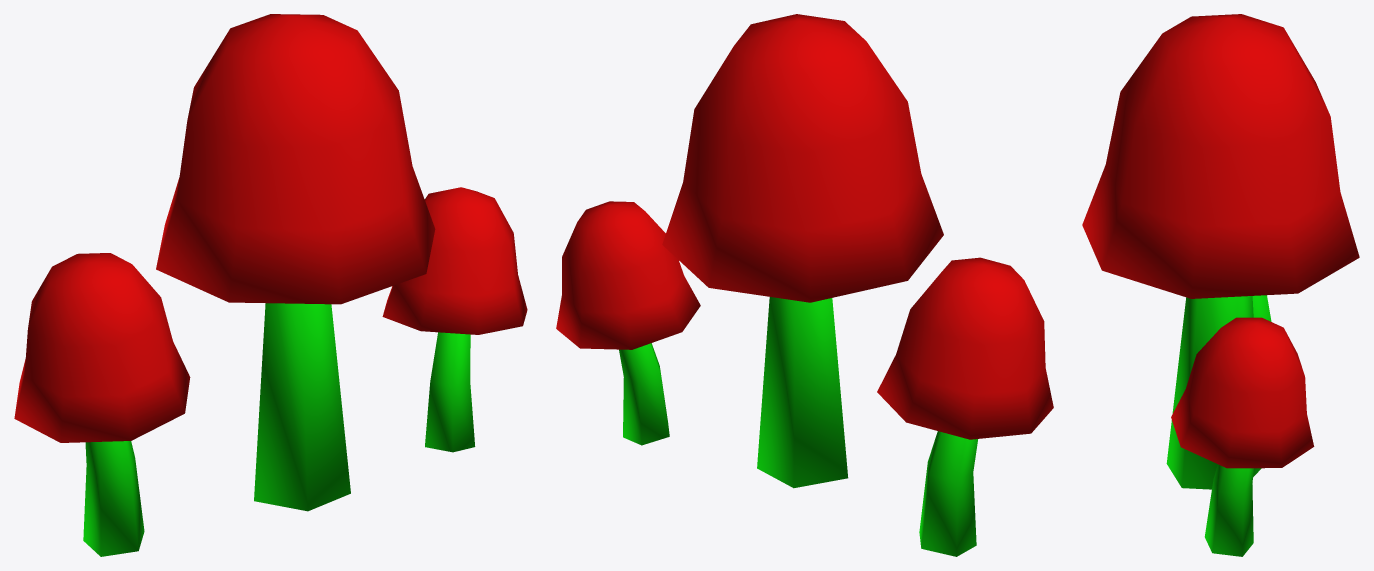
The model's file is Mushroom_Bell.fbx.
3 views of the same model, side by side, from view 1: azimuth 30°, elevation 25°; view 2: azimuth 150°, elevation 25°; view 3: azimuth 270°, elevation 25° (orthographic). The views are drawn at different scales.
Visible parts, largest first — view 1: Mushroom_04; view 2: Mushroom_04; view 3: Mushroom_04.
Part boxes in pixels (box(x1,y1,x2,y2)): Mushroom_04: box(14, 14, 527, 556); Mushroom_04: box(556, 14, 1053, 556); Mushroom_04: box(1082, 14, 1359, 556).
Bounding box in the file's own units: 54.38 × 27.37 × 52.35.
